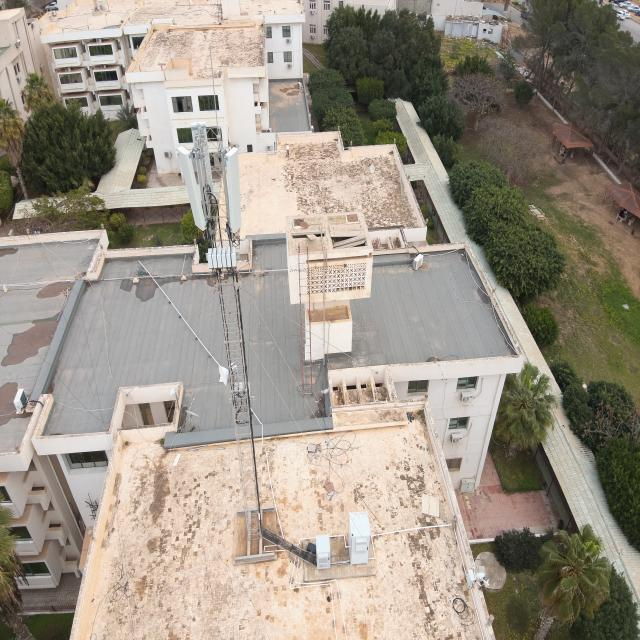antenna: (177, 146, 209, 231), (189, 121, 219, 204), (225, 144, 243, 238)
lighnig-rad: (208, 43, 222, 138)
microware-dish: (216, 361, 238, 385)
power-box: (232, 382, 253, 399)
radio-unit: (207, 246, 240, 270)
